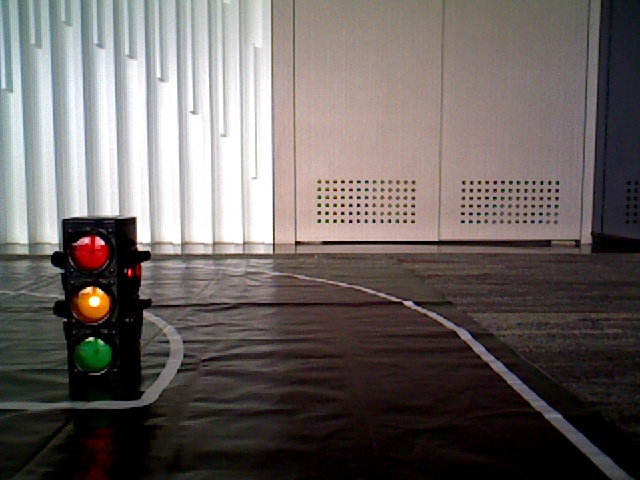yellow: (60, 223, 126, 387)
